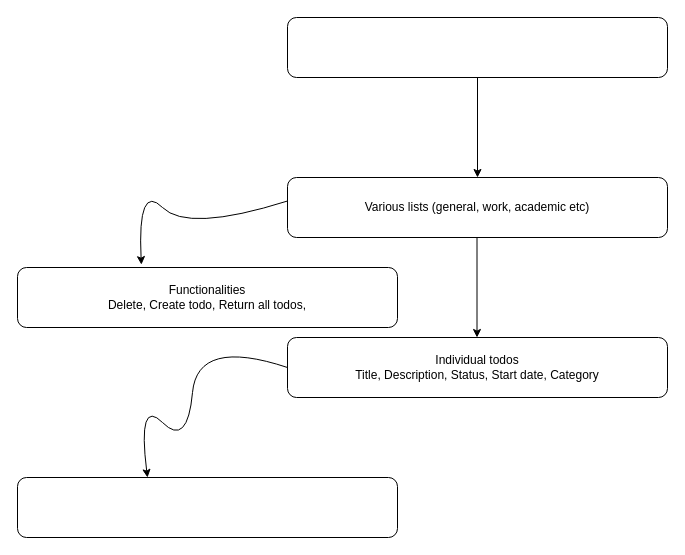
Some shapes in this 685 by 555 pixel diagram are drawn without their labels. The shapes that lost their labels are listed below. From the top down, each one's centre as x and y in pixels, then its label:
point (477, 47): TODO LIST APP
point (207, 507): Functionalities Update, return todo
